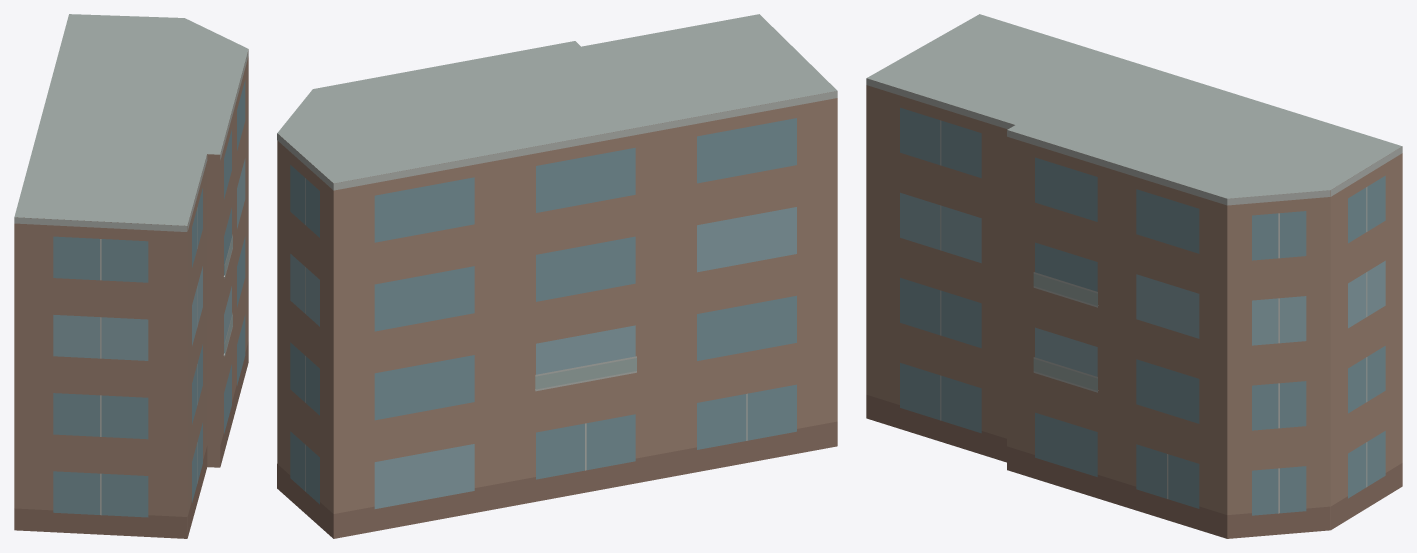
The model's file is survey-upis-32740903.glb.
3 renders of one model, left to right at view 1: azimuth 30°, elevation 25°; view 2: azimuth 150°, elevation 25°; view 3: azimuth 270°, elevation 25°, orthographic. The views are drawn at different scales.
Parts seen in each view (by area): view 1: survey-upis-32740903.tmp; view 2: survey-upis-32740903.tmp; view 3: survey-upis-32740903.tmp.
Part boxes in pixels (<box>): survey-upis-32740903.tmp: <box>14,14,248,538</box>; survey-upis-32740903.tmp: <box>277,14,837,538</box>; survey-upis-32740903.tmp: <box>866,14,1402,538</box>.
Bounding box in the file's own units: 14.22 × 12.2 × 17.44.
